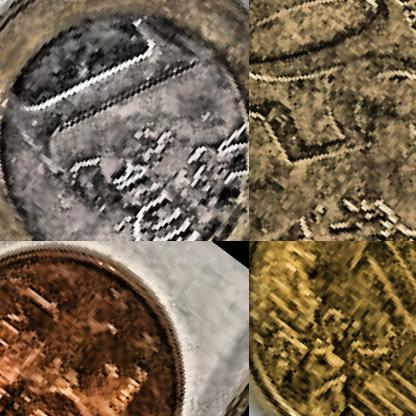coin: (0, 0, 248, 240), (0, 241, 244, 415), (249, 0, 415, 240), (249, 241, 415, 415)
